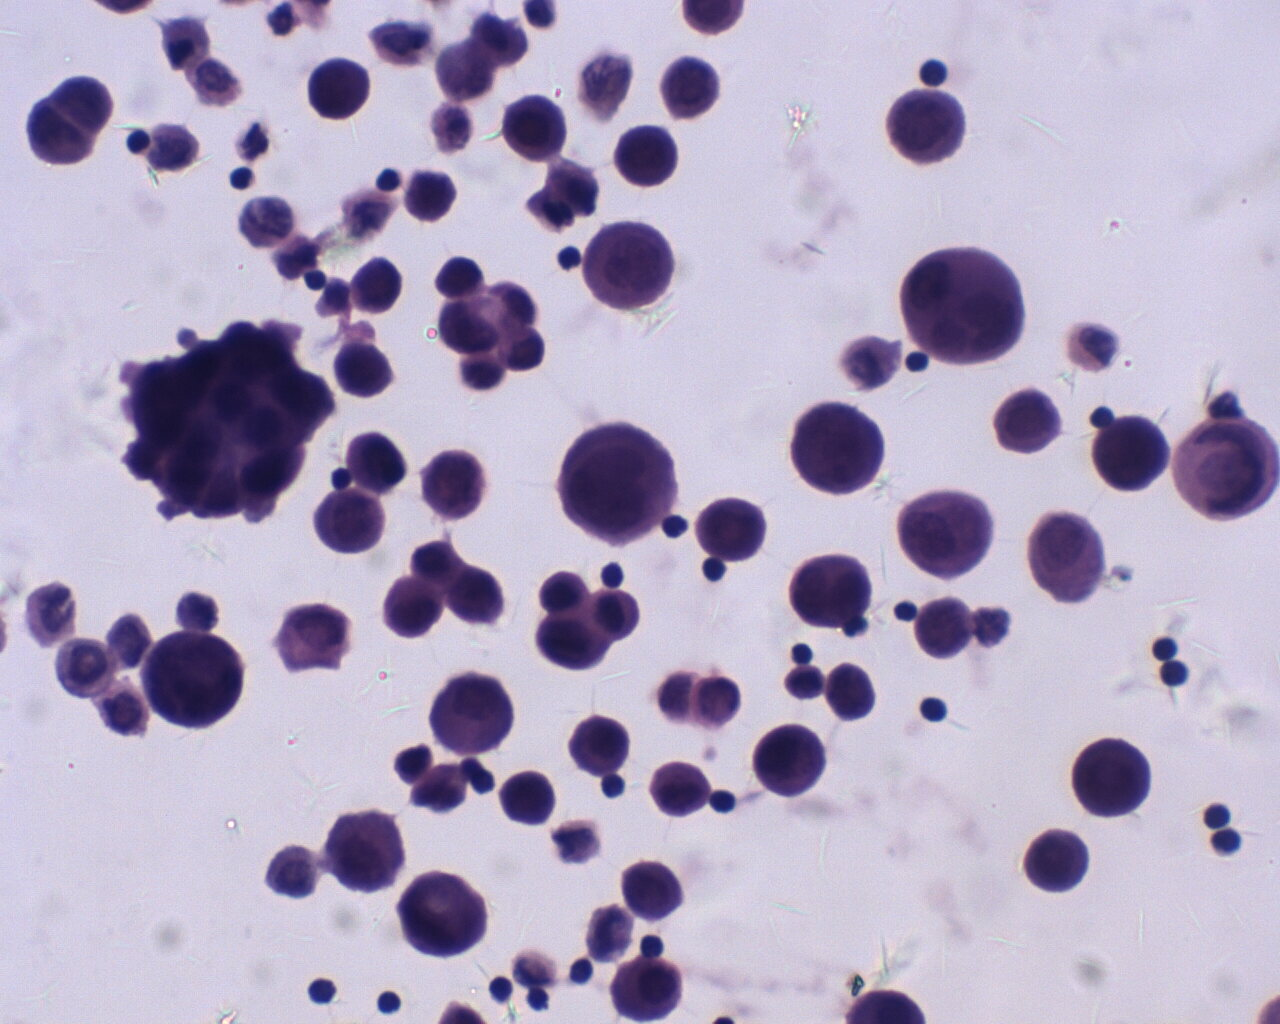ab: (900, 238, 1026, 367), (553, 417, 676, 548), (1167, 409, 1279, 523), (138, 632, 245, 730), (583, 222, 676, 315), (789, 404, 883, 496), (903, 491, 995, 582), (1071, 734, 1161, 824), (881, 89, 973, 172), (401, 869, 484, 959), (1018, 827, 1096, 899), (1094, 419, 1168, 494)
lymph: (915, 53, 954, 92), (916, 689, 950, 727), (307, 974, 340, 1005), (1201, 801, 1232, 832), (1212, 827, 1242, 858), (706, 784, 735, 816), (699, 554, 729, 581), (638, 933, 670, 958), (595, 775, 626, 799), (376, 988, 402, 1017), (788, 641, 816, 664), (557, 242, 579, 272)
meso: (1026, 508, 1106, 606), (425, 669, 514, 755)
